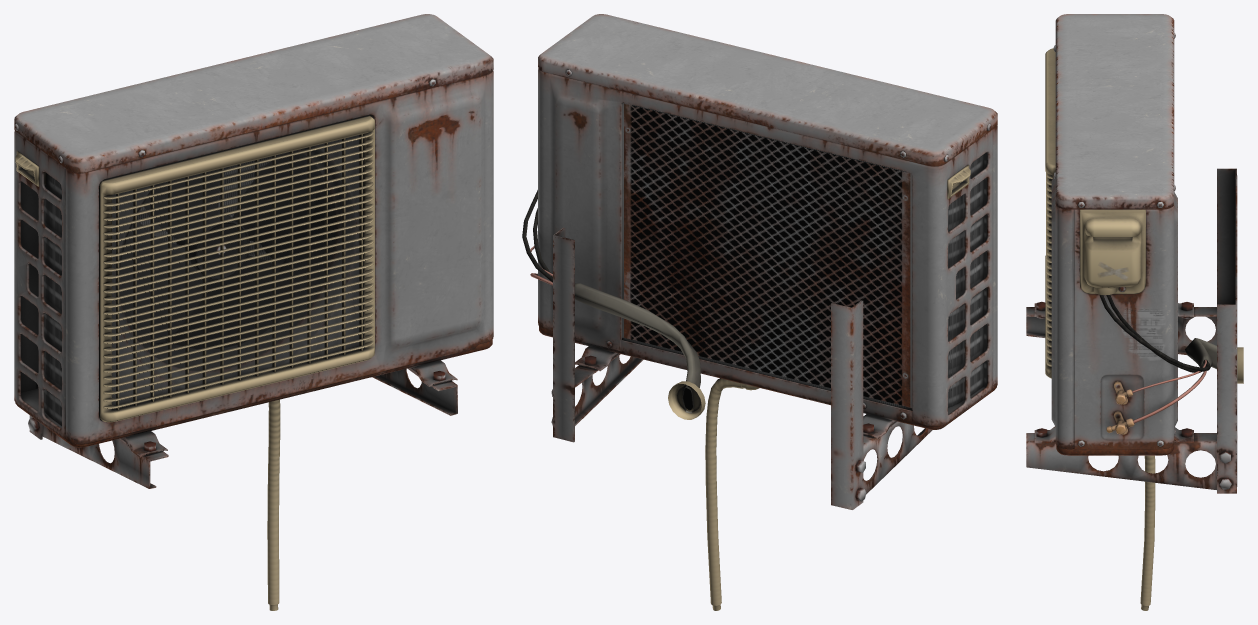
Rendered from air_conditioner_12.fbx.
The picture shows the model from 3 angles, left to right: view 1: azimuth 30°, elevation 25°; view 2: azimuth 150°, elevation 25°; view 3: azimuth 270°, elevation 25°; orthographic projection. The views are drawn at different scales.
Visible parts, largest first — view 1: body, fan; view 2: body; view 3: body.
Part boxes in pixels (x1,y1,x2,y2): body: (14,14,493,610); fan: (119,152,315,349); body: (522,14,997,610); body: (1026,14,1243,610).
Bounding box in the file's own units: 80 × 92.79 × 37.42.
